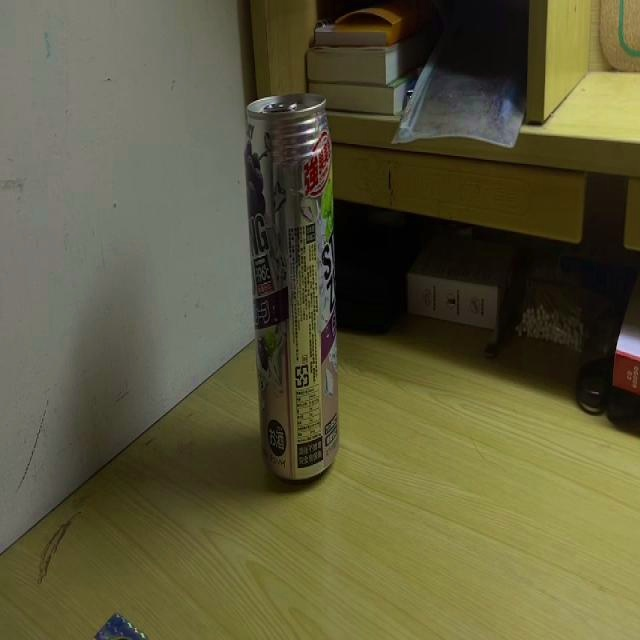Liquor: (246, 90, 340, 486)
